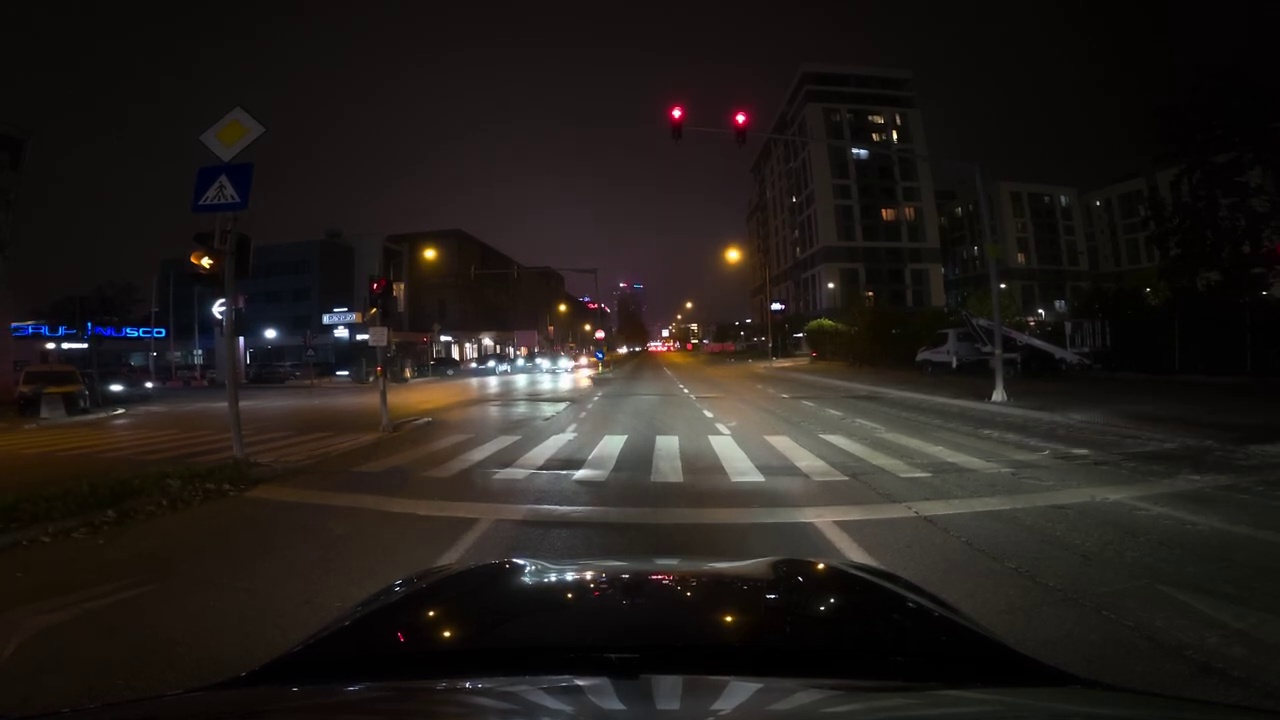acesa: (215, 117, 248, 148), (720, 242, 747, 268), (417, 243, 443, 268)
